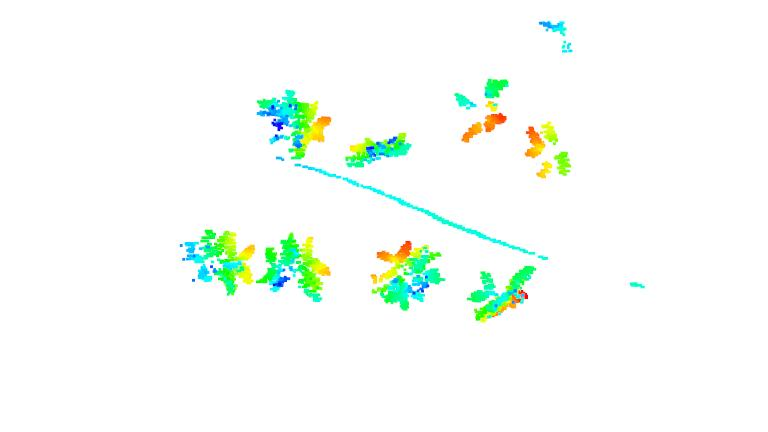chickpea: (255, 88, 333, 162), (256, 232, 333, 306), (371, 238, 442, 312), (180, 227, 255, 296), (468, 262, 539, 322), (452, 74, 511, 146), (522, 121, 573, 182), (342, 131, 413, 170)
